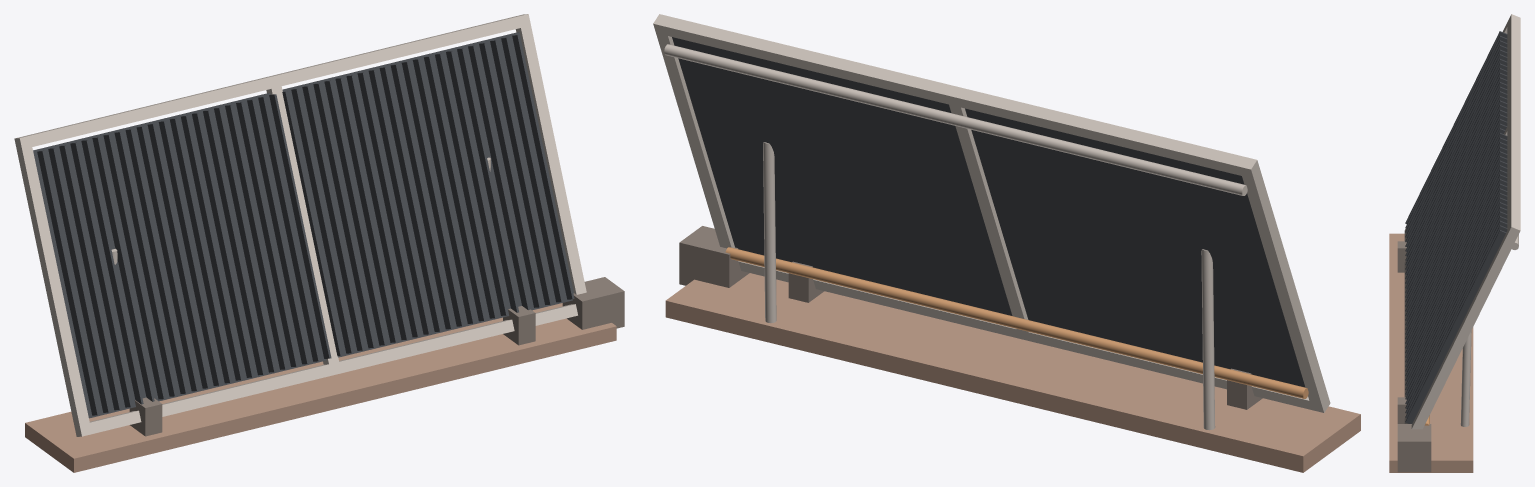
Rendered from P03_radiator_panel.glb.
3 views of the same model, side by side, from view 1: azimuth 30°, elevation 25°; view 2: azimuth 150°, elevation 25°; view 3: azimuth 270°, elevation 25° (orthographic). The views are drawn at different scales.
Visible parts, largest first — view 1: back_sheet, frame, mount_rail; view 2: back_sheet, mount_rail, frame, coolant_line; view 3: back_sheet, frame, mount_rail.
Boxes of the visible parts, left/top/right/bottom form: back_sheet: left=33, top=32, right=624, bottom=436; frame: left=14, top=14, right=586, bottom=436; mount_rail: left=25, top=303, right=616, bottom=472; back_sheet: left=672, top=37, right=1305, bottom=409; mount_rail: left=665, top=273, right=1360, bottom=472; frame: left=653, top=14, right=1330, bottom=430; coolant_line: left=725, top=247, right=1308, bottom=398; back_sheet: left=1397, top=31, right=1507, bottom=472; frame: left=1404, top=14, right=1520, bottom=429; mount_rail: left=1389, top=233, right=1473, bottom=472.
Size of the model in its own units: 3.27 by 1.57 by 0.7813.
